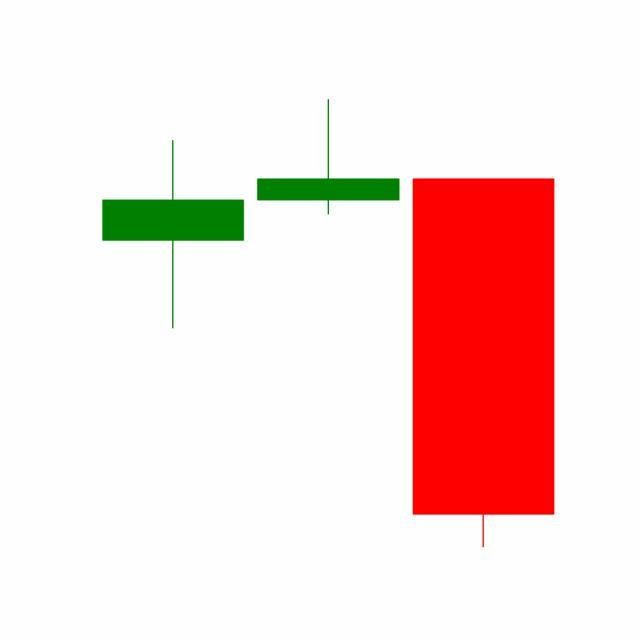Marubozu: (406, 175, 562, 553)
